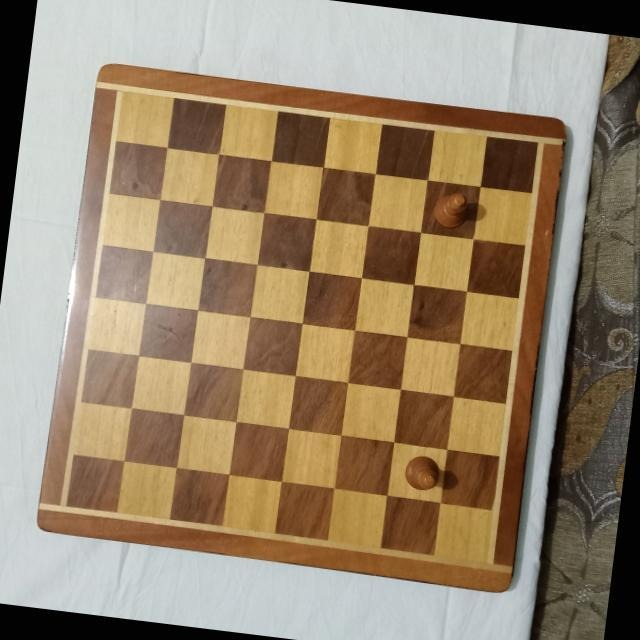white-pawn: (430, 186, 474, 229), (400, 451, 444, 492)
